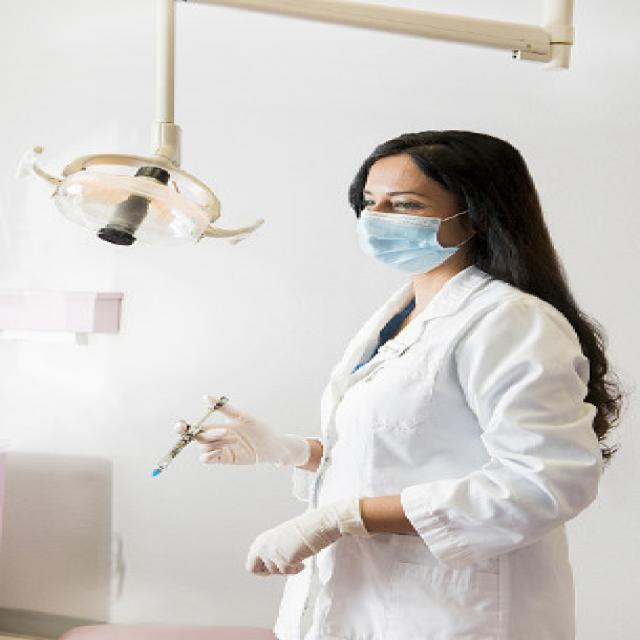mask: (359, 156, 451, 270)
